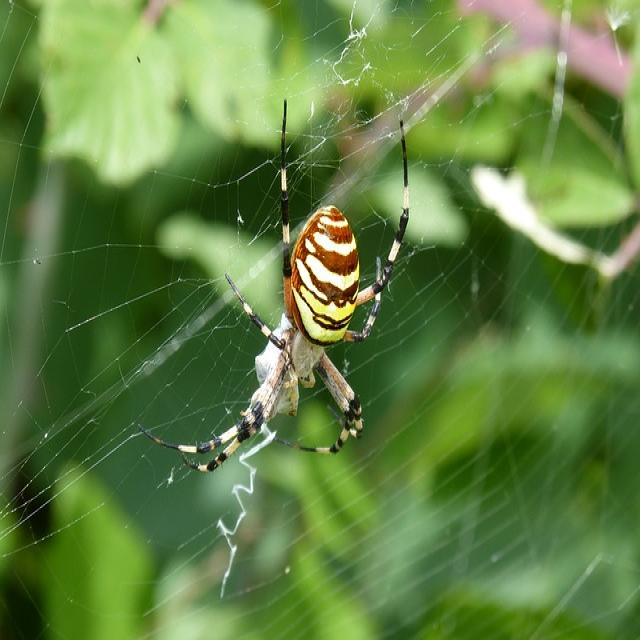spyder: (165, 101, 409, 473)
